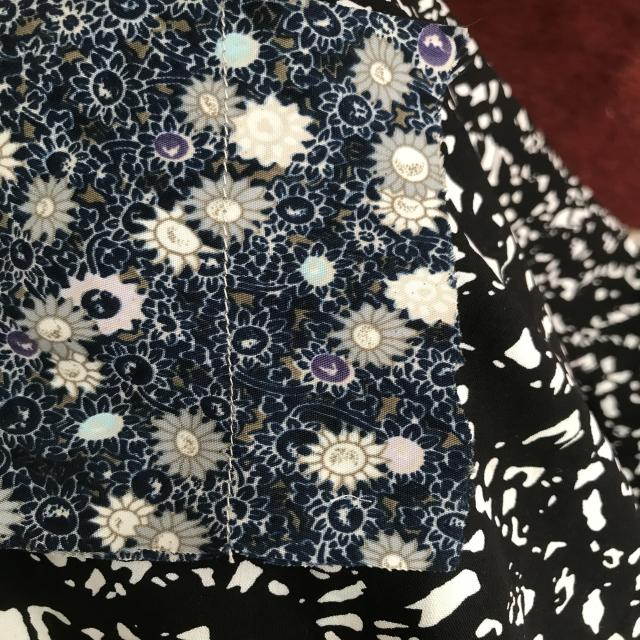good: (217, 274, 249, 506)
